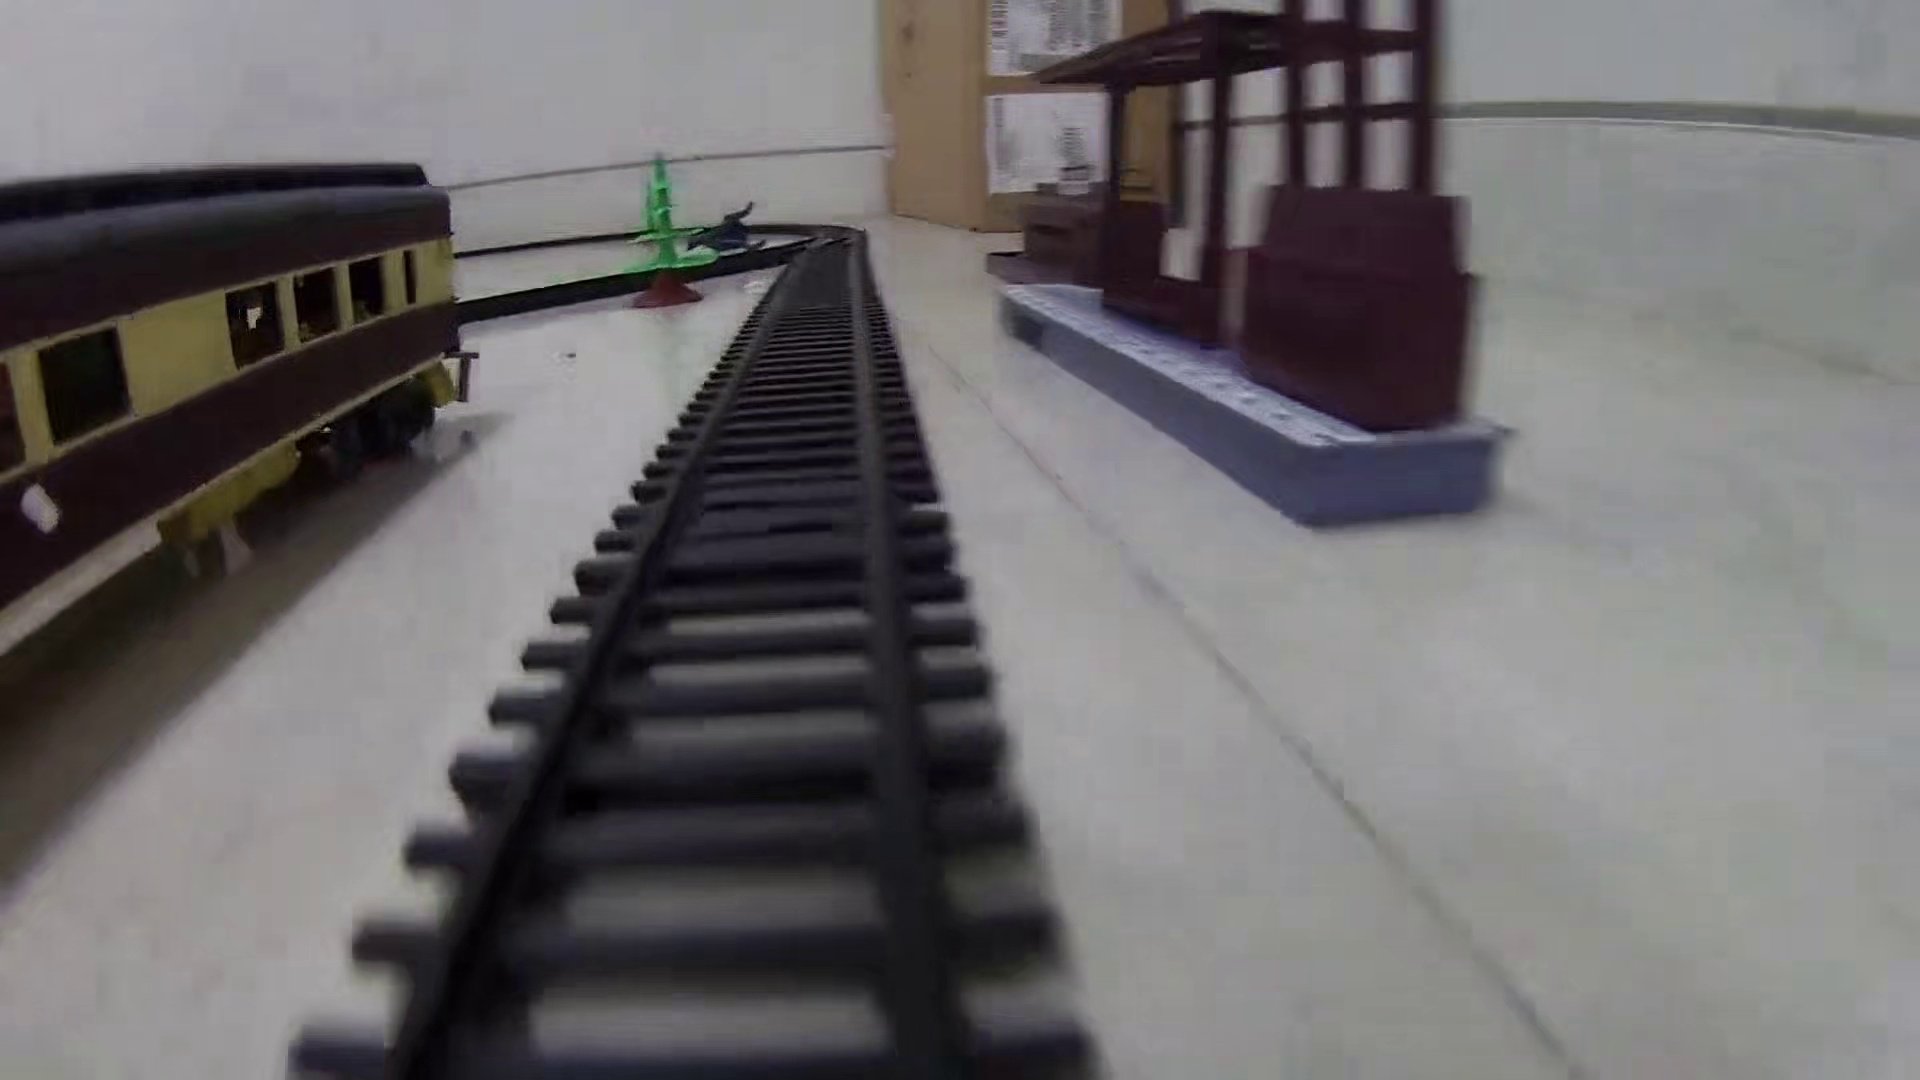people: (682, 196, 768, 254)
tree: (630, 154, 714, 309)
